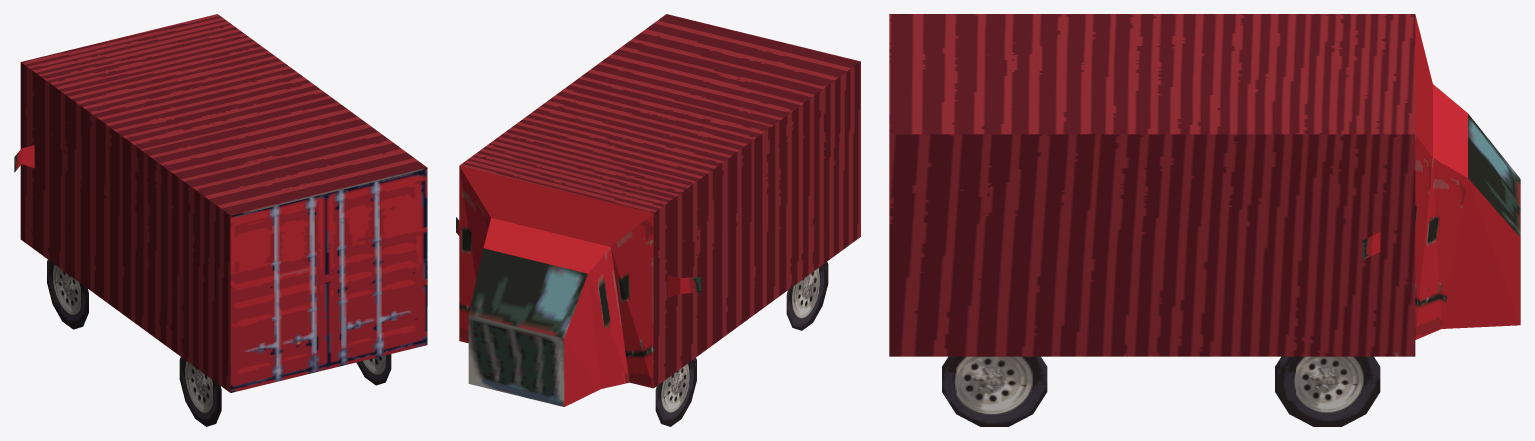
The model's file is kidnapperbus.fbx.
3 renders of one model, left to right at view 1: azimuth 30°, elevation 25°; view 2: azimuth 150°, elevation 25°; view 3: azimuth 270°, elevation 25°, orthographic. The views are drawn at different scales.
Visible parts, largest first — view 1: trailer, circle_2, circle_3, circle_1, windshield; view 2: trailer, circle_2, circle_3, windshield; view 3: trailer, circle, circle_1.
Boxes of the visible parts, x1,y1,x2,y2 form: trailer: (20,14,427,392); circle_2: (179,357,221,426); circle_3: (47,260,88,329); circle_1: (356,354,391,385); windshield: (14,145,34,172); trailer: (459,14,860,406); circle_2: (786,262,828,330); circle_3: (655,358,696,426); windshield: (667,275,701,297); trailer: (889,14,1520,356); circle: (1275,356,1380,426); circle_1: (942,356,1047,426).
Size of the model in its own units: 64.06 by 59.38 by 112.
1 material, 1 textured.
